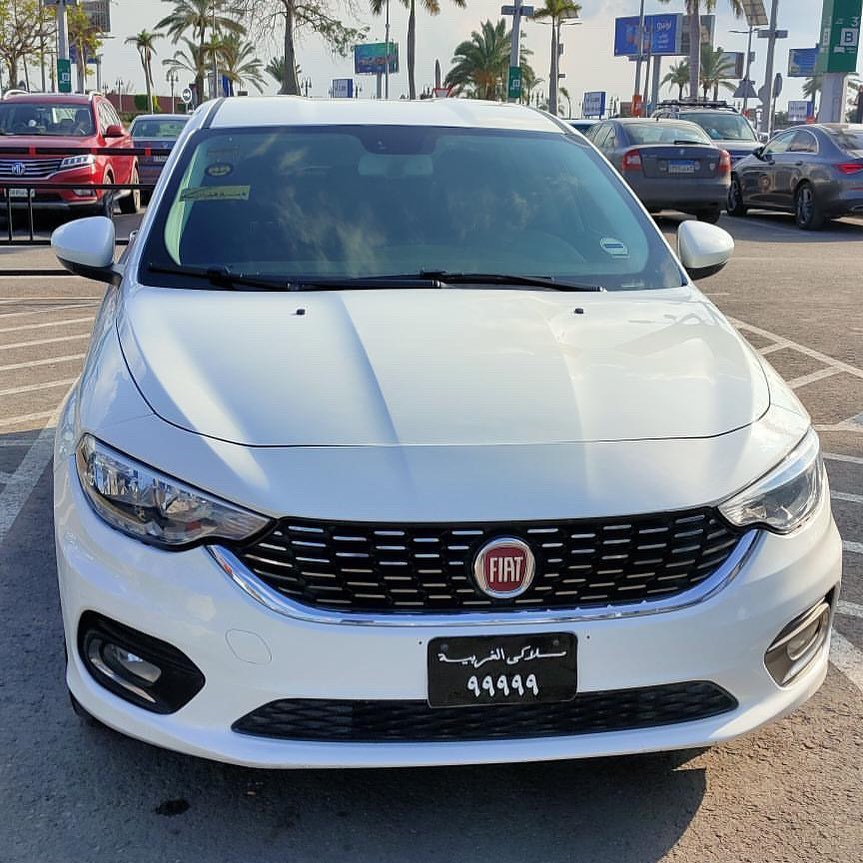carpl: (423, 640, 574, 706)
